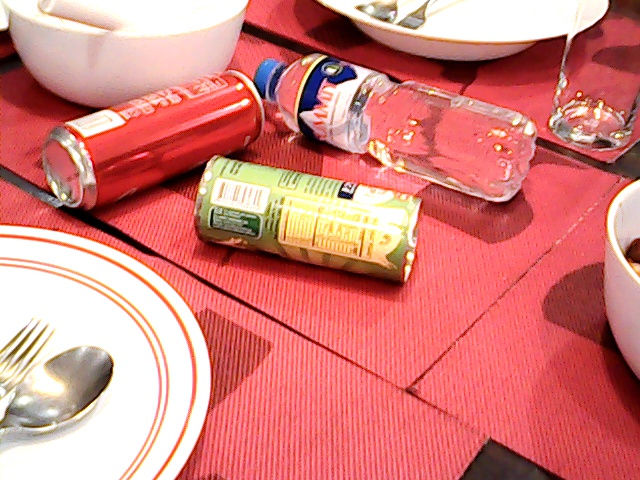Cola: (32, 66, 261, 164)
Pine Juice: (201, 167, 400, 268)
Summit Water: (263, 44, 469, 151)
